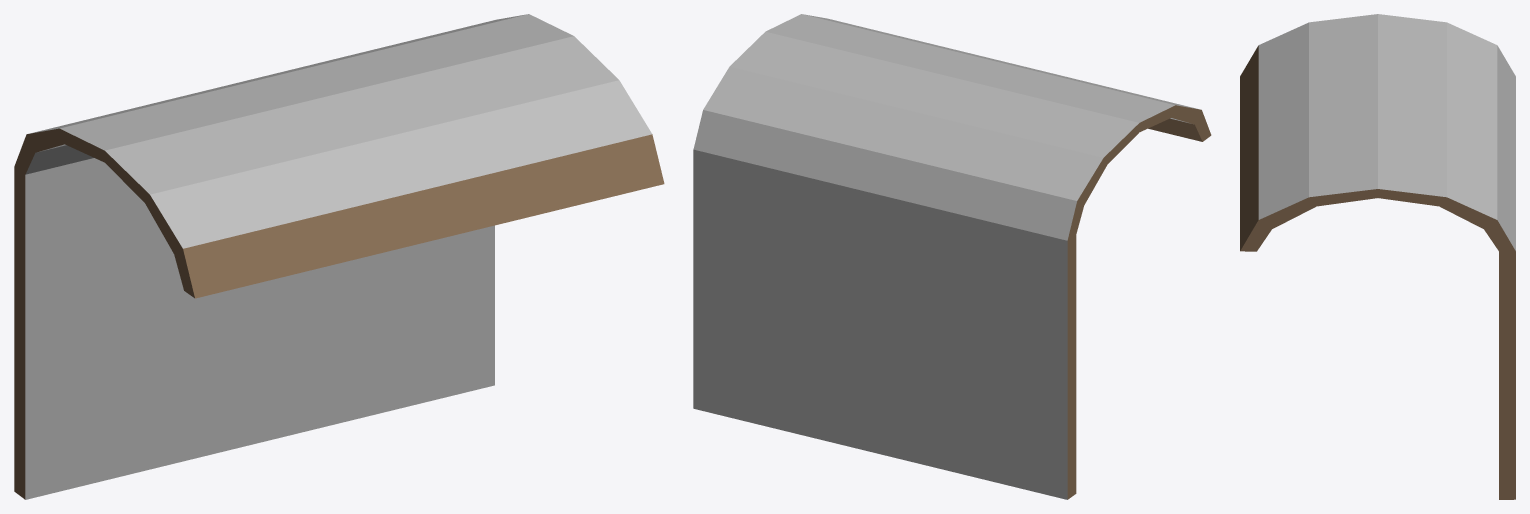
The model's file is props-bus-stop.glb.
The picture shows the model from 3 angles, left to right: view 1: azimuth 30°, elevation 25°; view 2: azimuth 150°, elevation 25°; view 3: azimuth 270°, elevation 25°; orthographic projection. The views are drawn at different scales.
Visible parts, largest first — view 1: model; view 2: model; view 3: model.
Boxes of the visible parts, bbox=[...] form: model: bbox=[14, 14, 664, 499]; model: bbox=[693, 14, 1211, 499]; model: bbox=[1240, 14, 1515, 499].
Size of the model in its own units: 6 by 4.98 by 4.
1 material, 1 textured.
